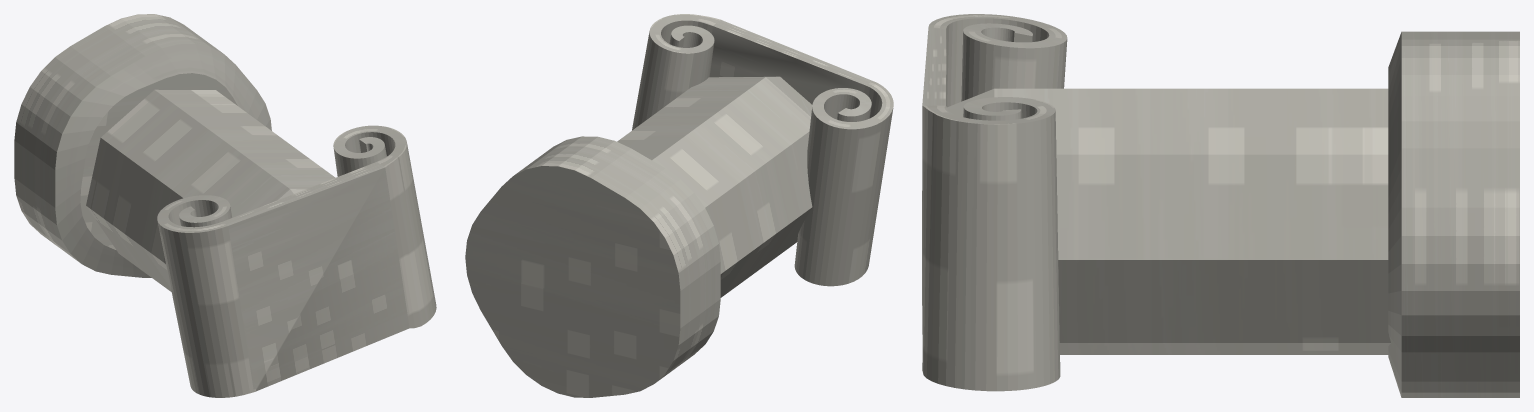
The model's file is full-column.obj.
The picture shows the model from 3 angles, left to right: view 1: azimuth 30°, elevation 25°; view 2: azimuth 150°, elevation 25°; view 3: azimuth 270°, elevation 25°; orthographic projection. The views are drawn at different scales.
Visible parts, largest first — view 1: Gengon001; view 2: Gengon001; view 3: Gengon001.
Part boxes in pixels (bbox=[...]): Gengon001: bbox=[14, 14, 436, 397]; Gengon001: bbox=[465, 14, 893, 397]; Gengon001: bbox=[922, 14, 1519, 397].
Bounding box in the file's own units: 126 × 104 × 170.
